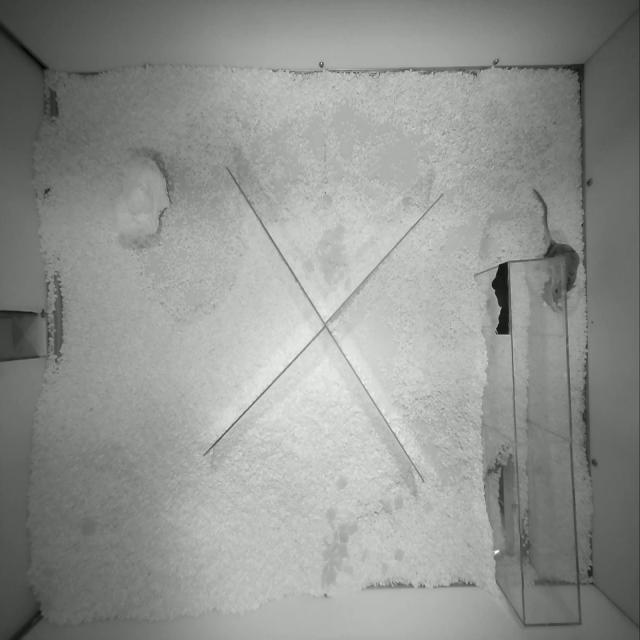adult_back: (534, 189, 580, 310)
